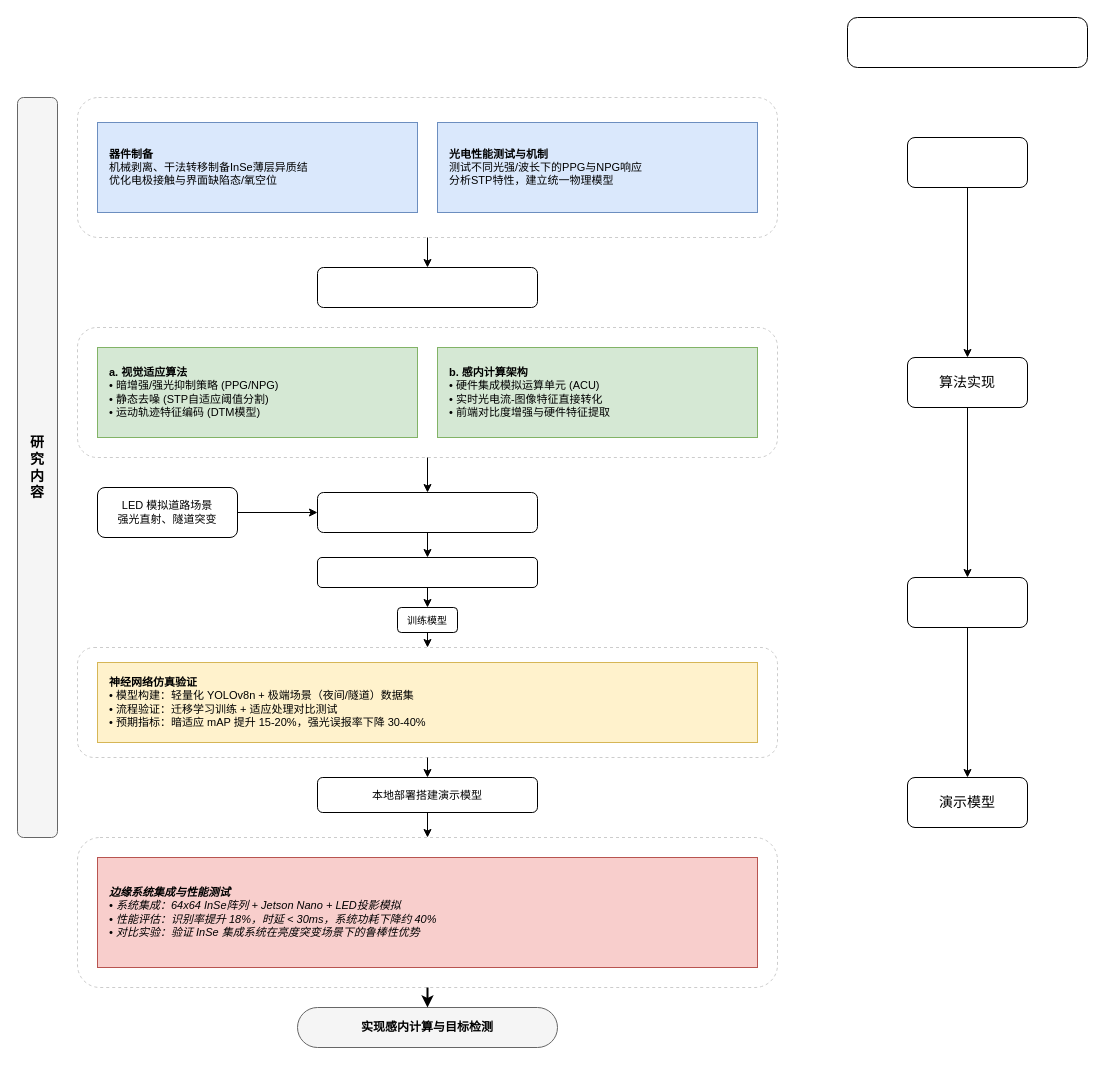
Image size: 1105x1065. Some labels were removed from this diagram. The shapes that lost their labels are listed below. From the top down, each one's centre as x and y in pixels, then its label:
At point 967,42: "研究思路".
At point 967,162: "硬件实现".
At point 427,287: "InSe 突触阵列".
At point 427,512: "前端预处理平台".
At point 427,572: "经过预处理的数据集".
At point 967,602: "模拟验证".
